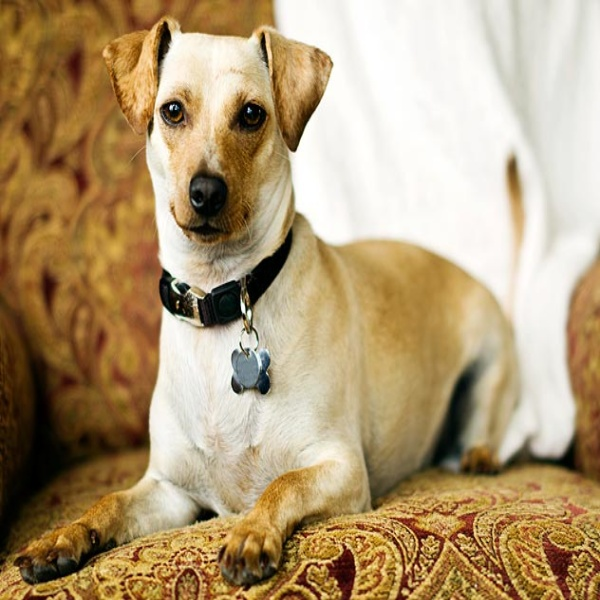dog: (8, 13, 520, 584)
